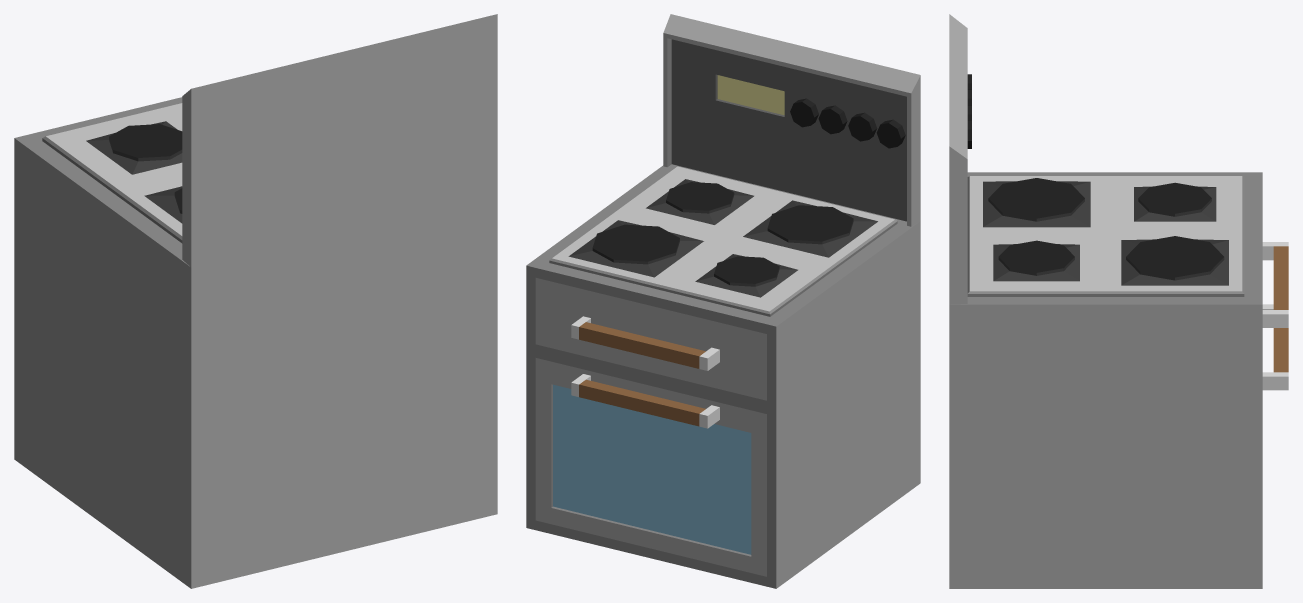
Rendered from oven.fbx.
3 renders of one model, left to right at view 1: azimuth 30°, elevation 25°; view 2: azimuth 150°, elevation 25°; view 3: azimuth 270°, elevation 25°, orthographic. The views are drawn at different scales.
Visible parts, largest first — view 1: Oven; view 2: Oven; view 3: Oven.
Boxes of the visible parts, x1=… form: Oven: x1=14, y1=14, x2=497, y2=588; Oven: x1=526, y1=14, x2=920, y2=588; Oven: x1=949, y1=14, x2=1288, y2=588.
Bounding box in the file's own units: 200 × 312 × 217.
Materials: 1 (1 with a texture image).
